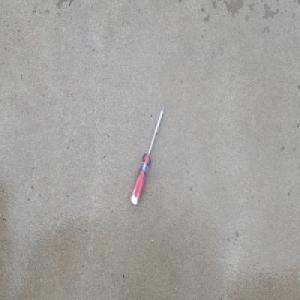Screwdriver: (129, 103, 165, 206)
